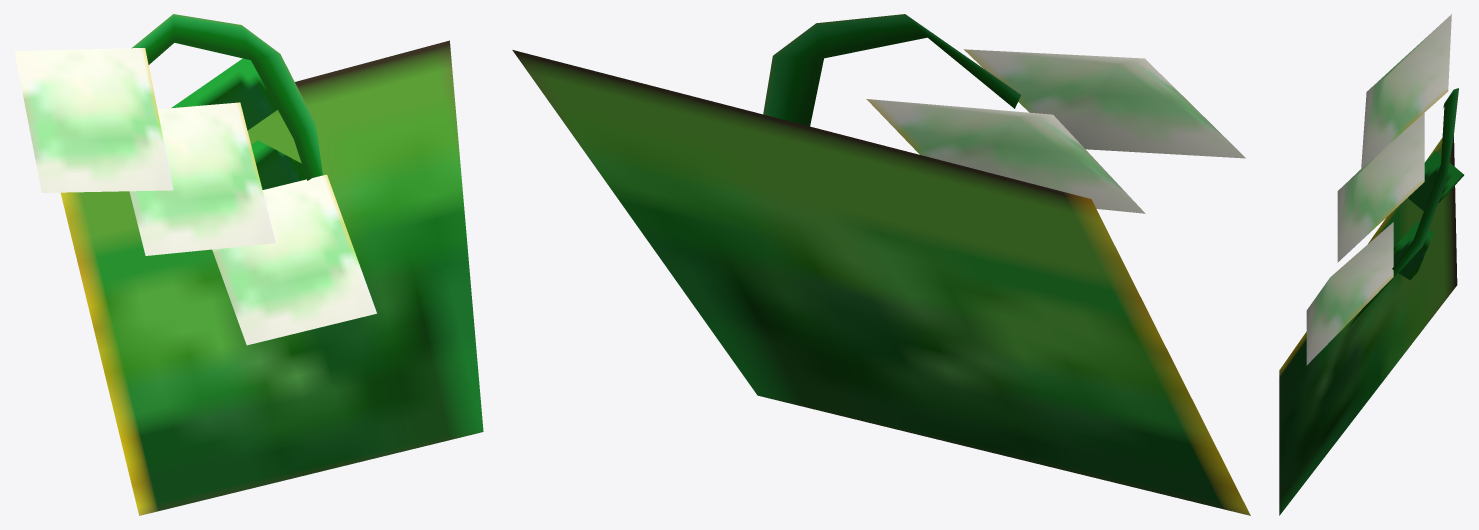
File: flw_lily.dae
3 views of the same model, side by side, from view 1: azimuth 30°, elevation 25°; view 2: azimuth 150°, elevation 25°; view 3: azimuth 270°, elevation 25° (orthographic). The views are drawn at different scales.
Parts seen in each view (by area): view 1: flw_lily; view 2: flw_lily; view 3: flw_lily.
Part boxes in pixels (x1,y1,x2,y2): flw_lily: [14, 14, 483, 515]; flw_lily: [512, 14, 1250, 515]; flw_lily: [1279, 14, 1463, 515].
Bounding box in the file's own units: 23.25 × 19.23 × 9.34.
Materials: 1 (1 with a texture image).
